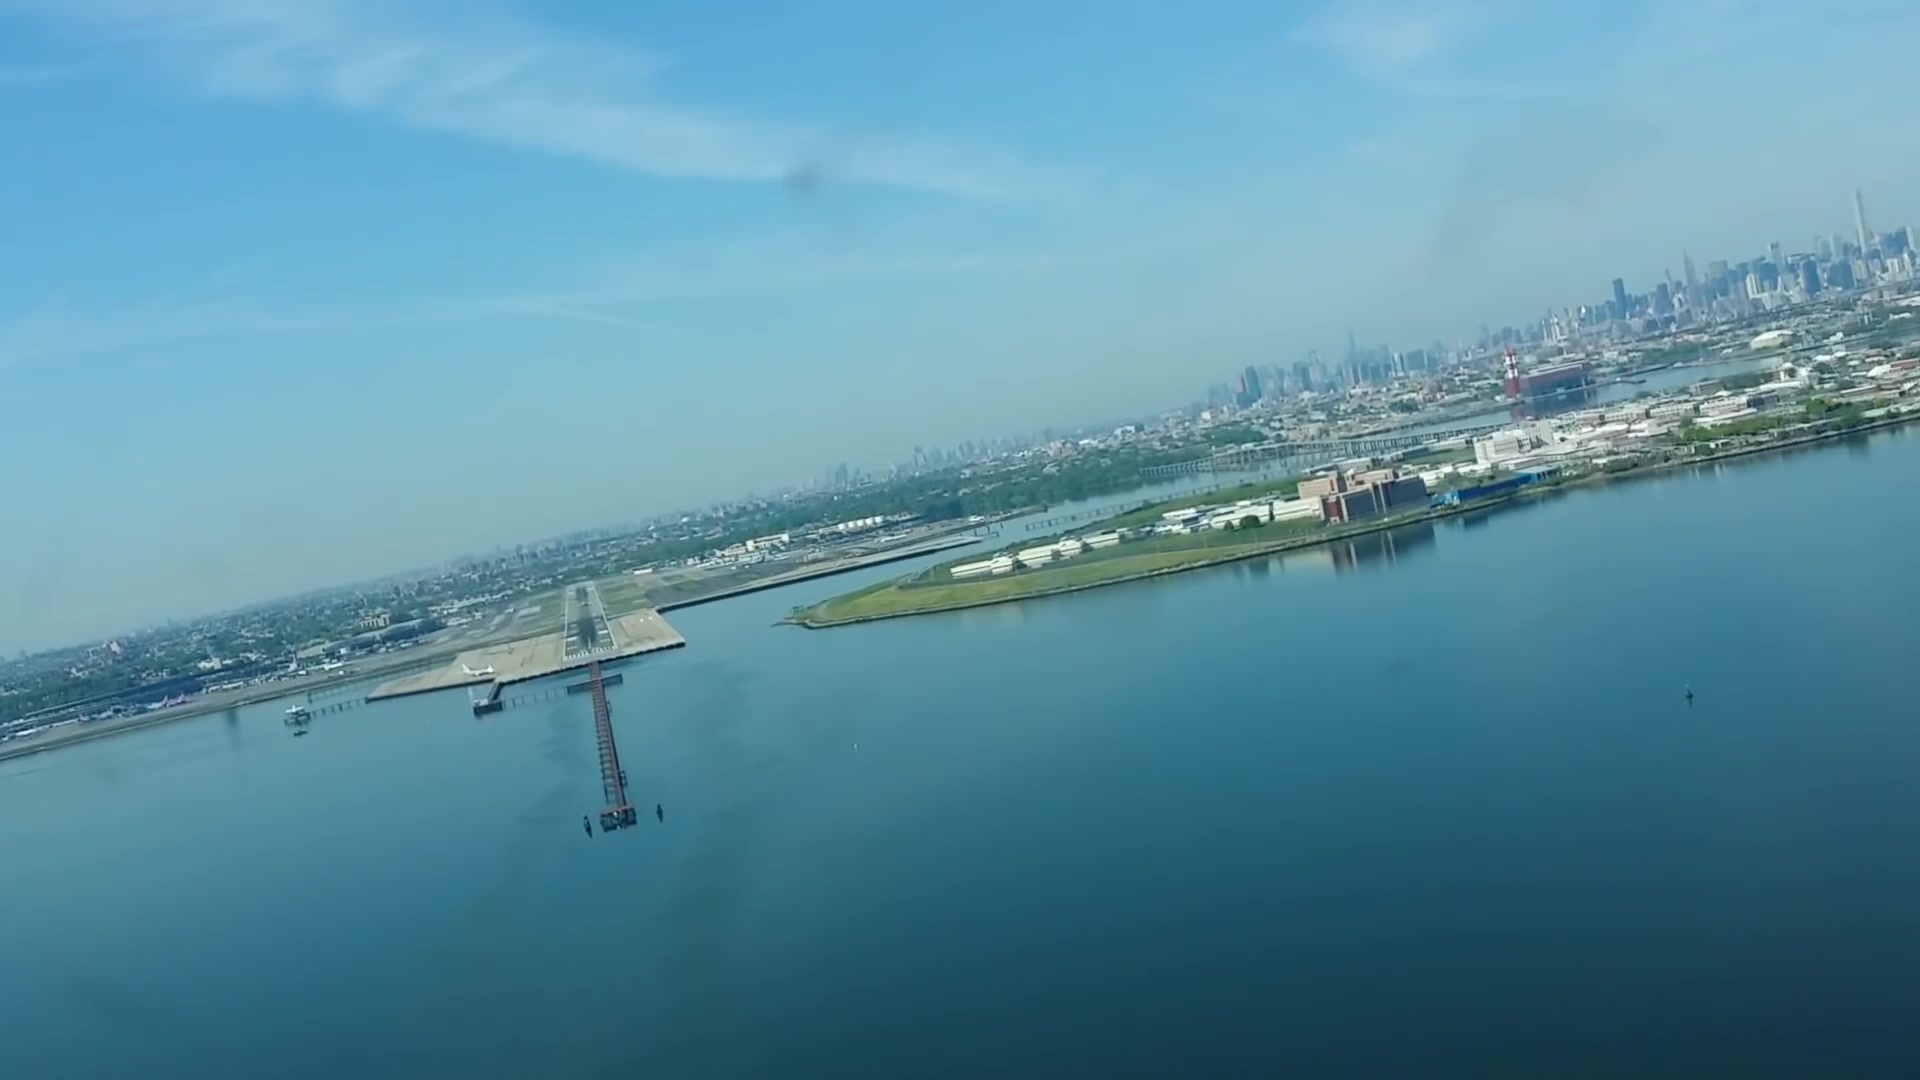runway: (559, 579, 617, 663)
